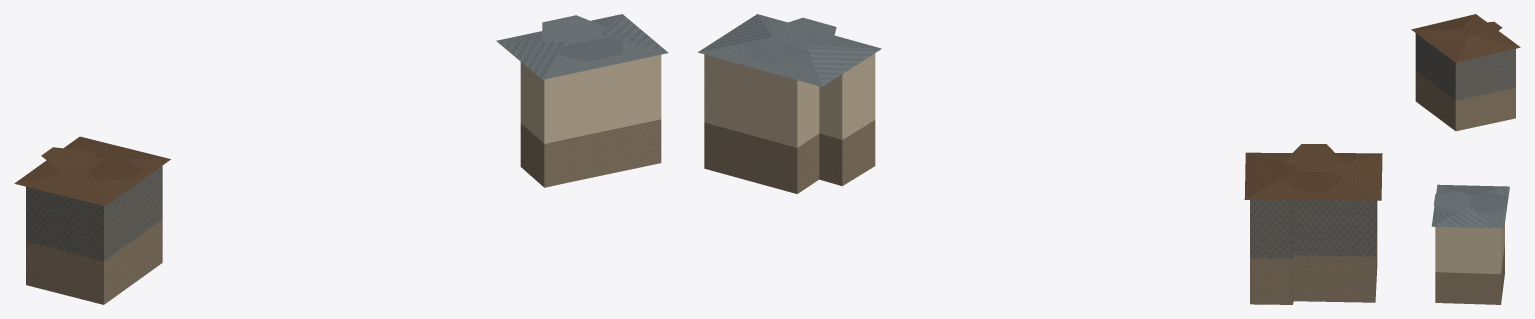
The model's file is bld_c14_25_396.gltf.
3 views of the same model, side by side, from view 1: azimuth 30°, elevation 25°; view 2: azimuth 150°, elevation 25°; view 3: azimuth 270°, elevation 25° (orthographic). The views are drawn at different scales.
Visible parts, largest first — view 1: bld_c14_25_396; view 2: bld_c14_25_396; view 3: bld_c14_25_396.
Boxes of the visible parts, bbox=[...] form: bld_c14_25_396: bbox=[14, 14, 668, 304]; bld_c14_25_396: bbox=[698, 14, 1382, 304]; bld_c14_25_396: bbox=[1411, 14, 1520, 304].
Bounding box in the file's own units: 76.64 × 13.9 × 16.5.
5 materials, 5 textured.
